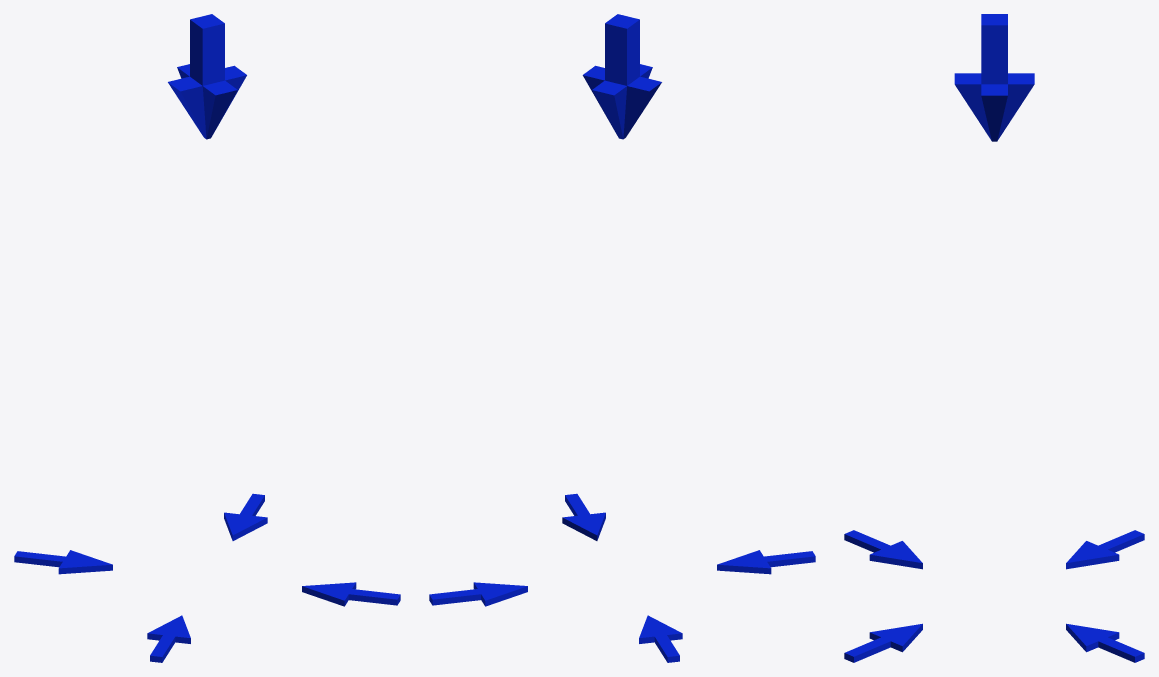
The model's file is yuansu03.b6146cf.glb.
3 views of the same model, side by side, from view 1: azimuth 30°, elevation 25°; view 2: azimuth 150°, elevation 25°; view 3: azimuth 270°, elevation 25° (orthographic). The views are drawn at different scales.
Parts seen in each view (by area): view 1: yuansu03; view 2: yuansu03; view 3: yuansu03.
Part boxes in pixels (<box>): yuansu03: <box>14,14,400,662</box>; yuansu03: <box>429,14,815,662</box>; yuansu03: <box>844,14,1144,662</box>.
Size of the model in its own units: 1.13 by 2.4 by 1.13.
